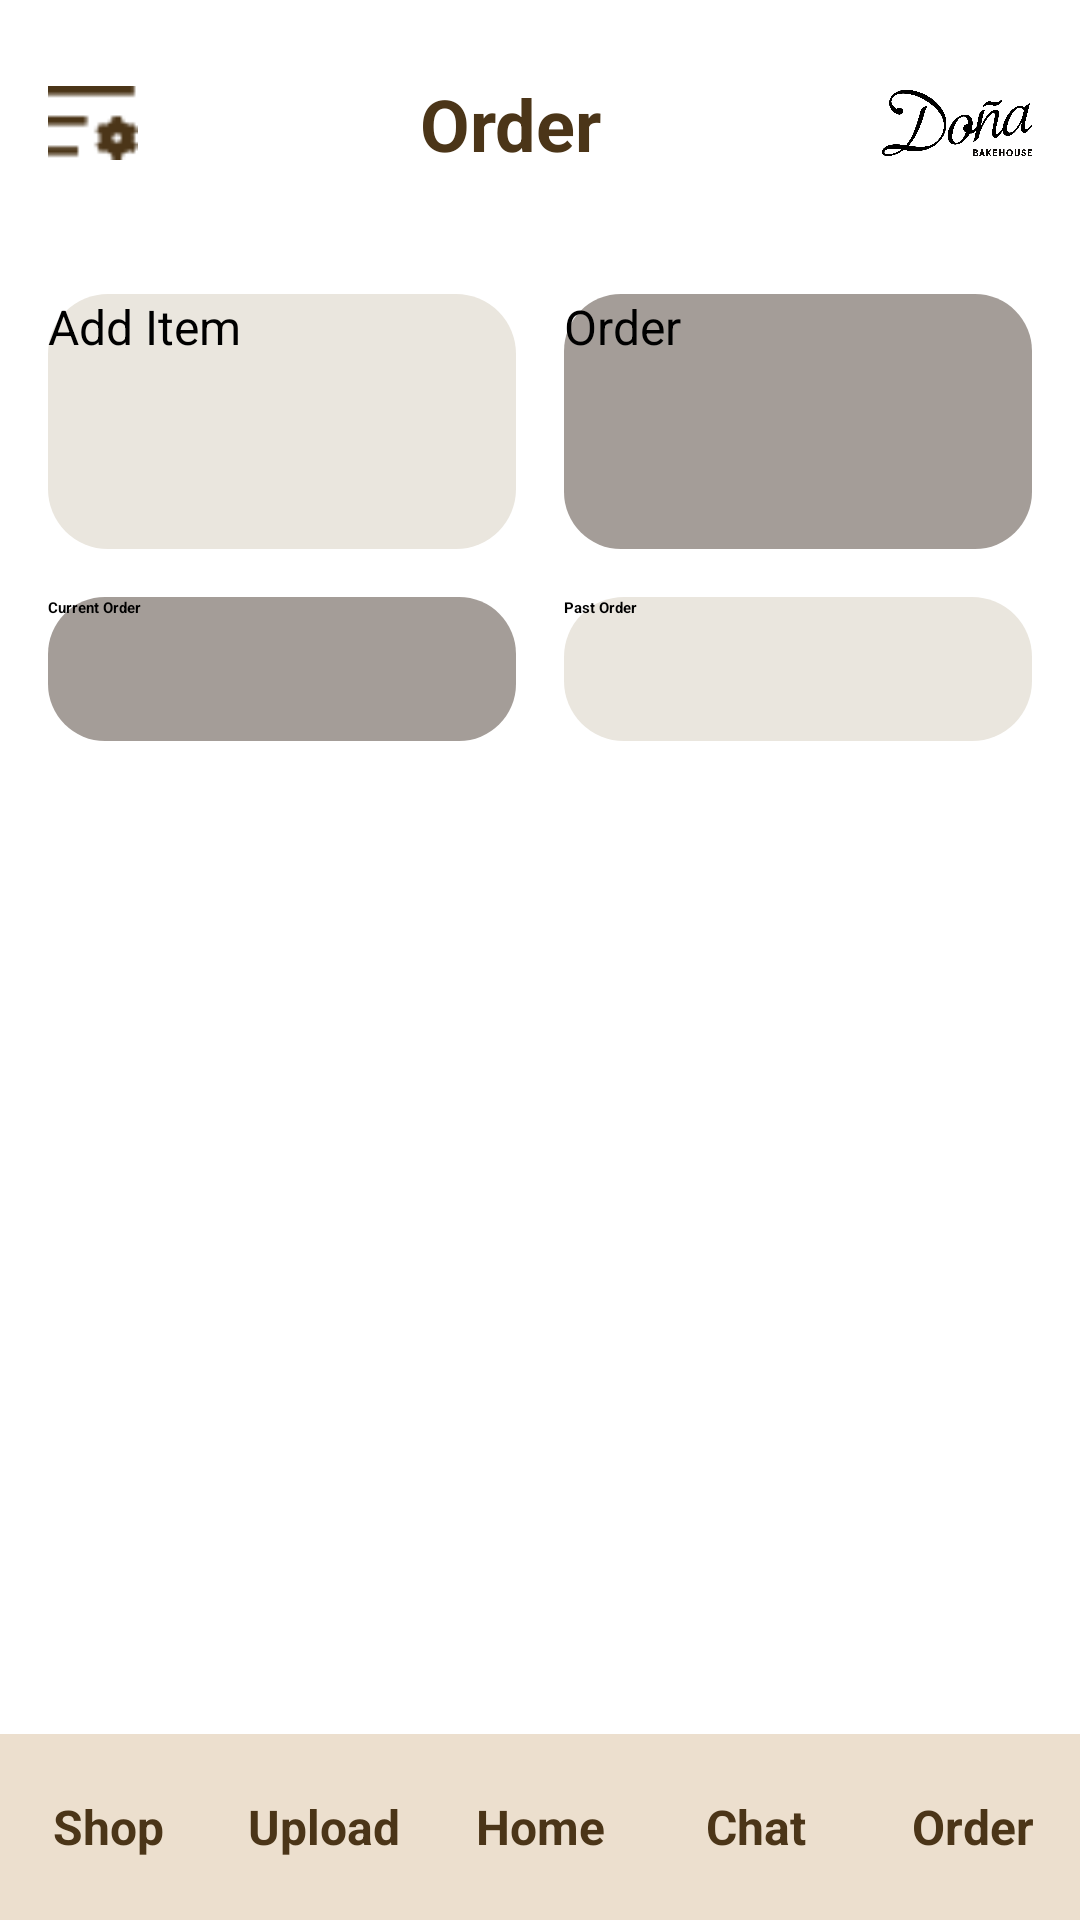

Named icons in this screenshot (1080x1920) and their centers, (x,y):
more: (93,123)
